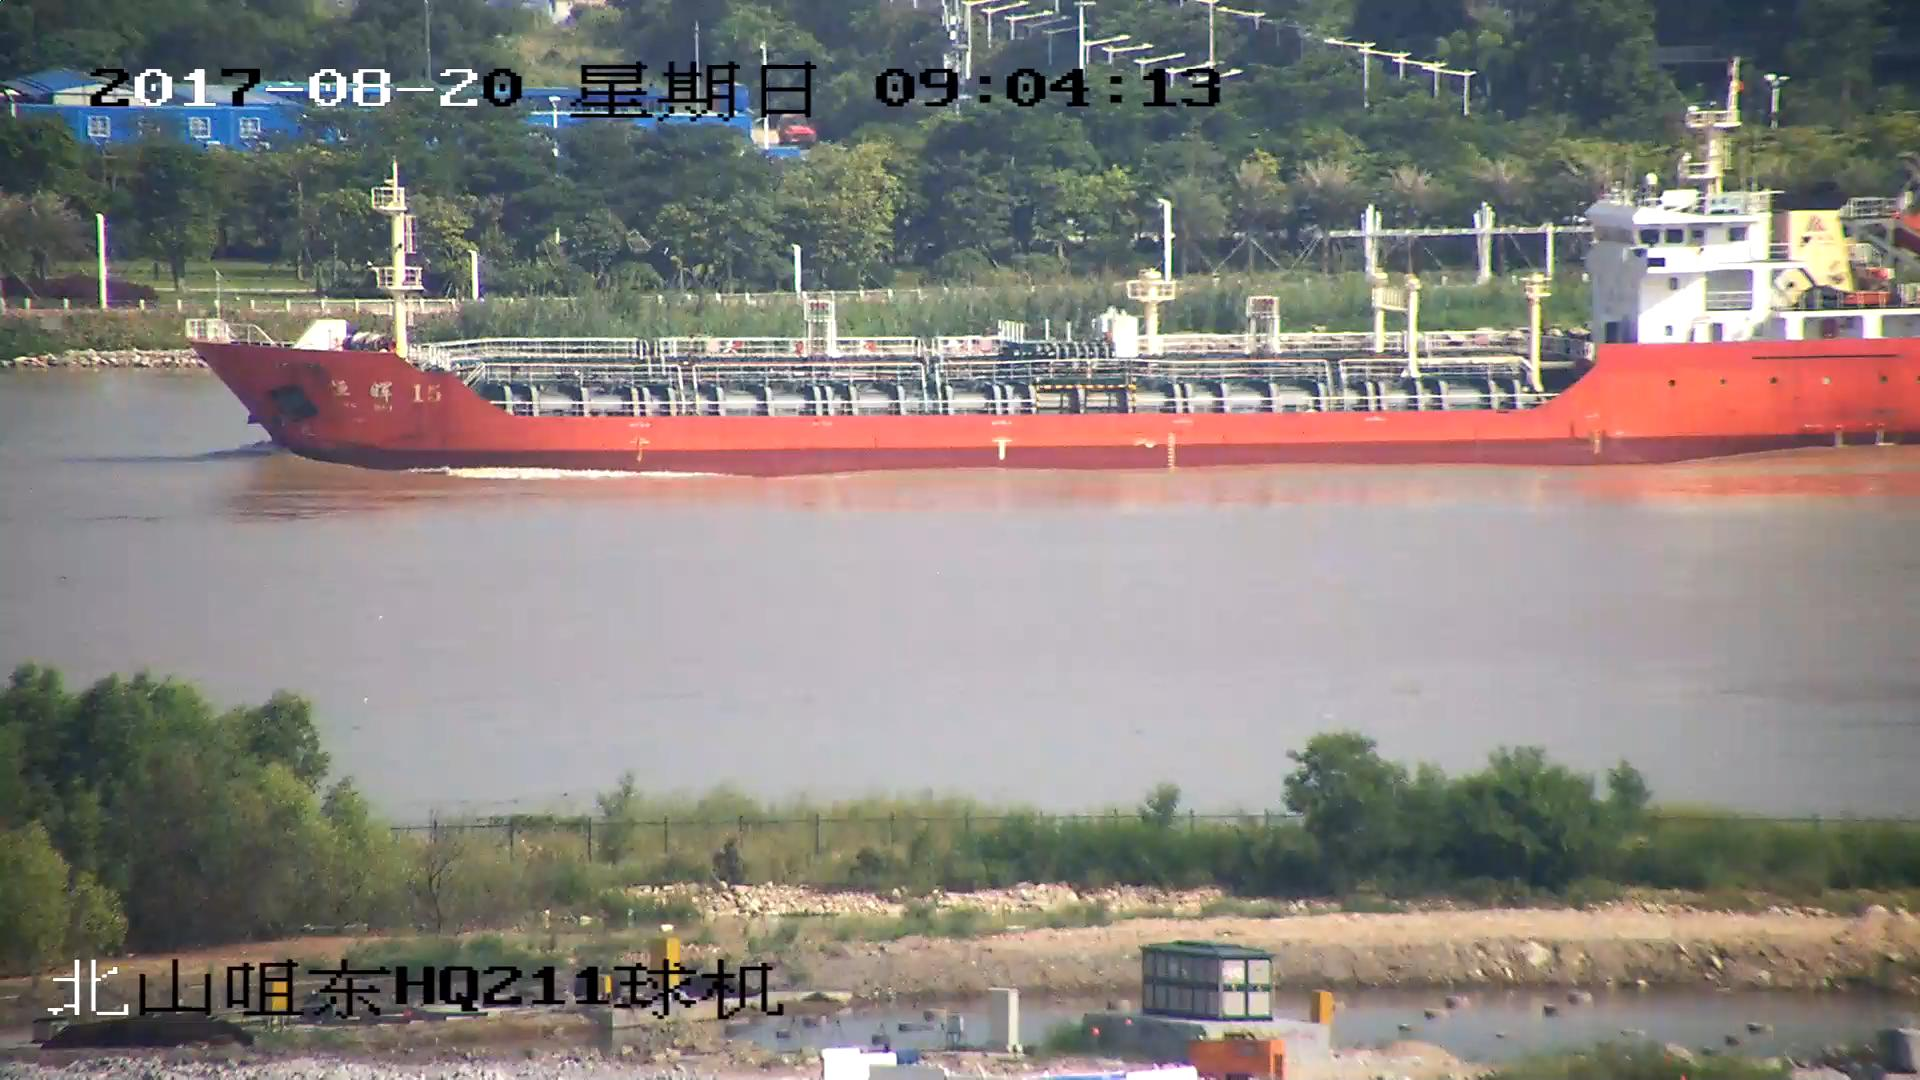general cargo ship: (177, 106, 1920, 471)
